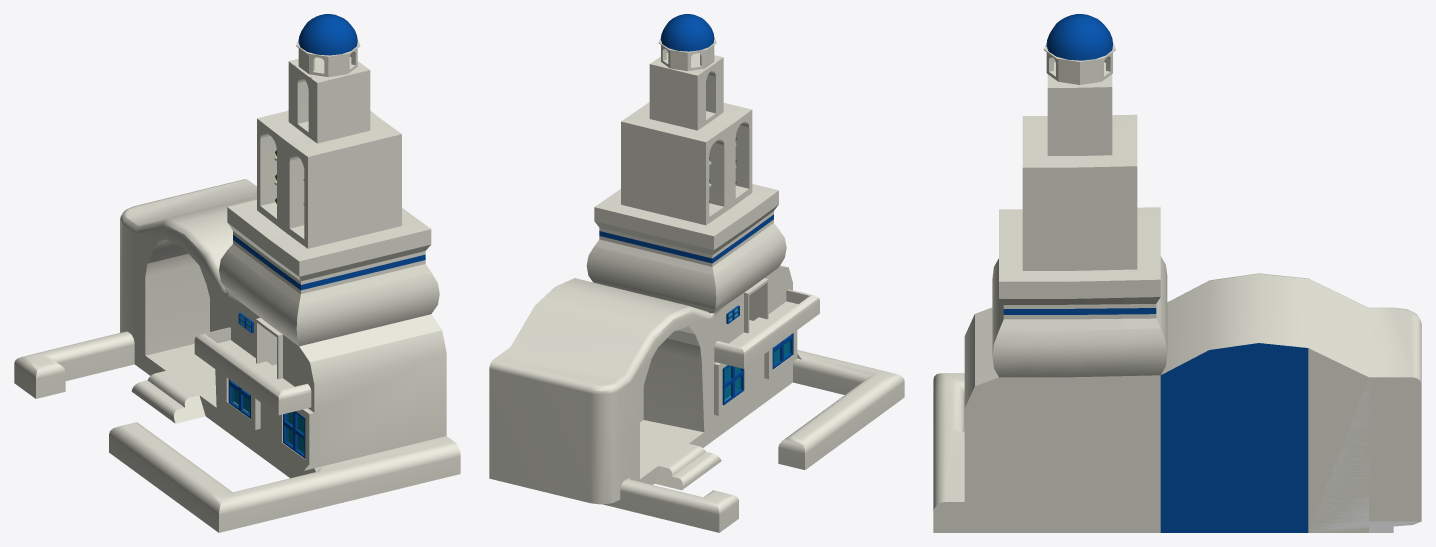
Rendered from ExtraGebouw_klokkenluiden_exp.fbx.
3 renders of one model, left to right at view 1: azimuth 30°, elevation 25°; view 2: azimuth 150°, elevation 25°; view 3: azimuth 270°, elevation 25°, orthographic. The views are drawn at different scales.
Visible parts, largest first — view 1: pCube89; view 2: pCube89; view 3: pCube89.
Part boxes in pixels (x1,y1,x2,y2): pCube89: (14, 14, 460, 532); pCube89: (489, 14, 904, 532); pCube89: (933, 14, 1421, 532).
Size of the model in its own units: 12.15 by 19.99 by 18.48.
